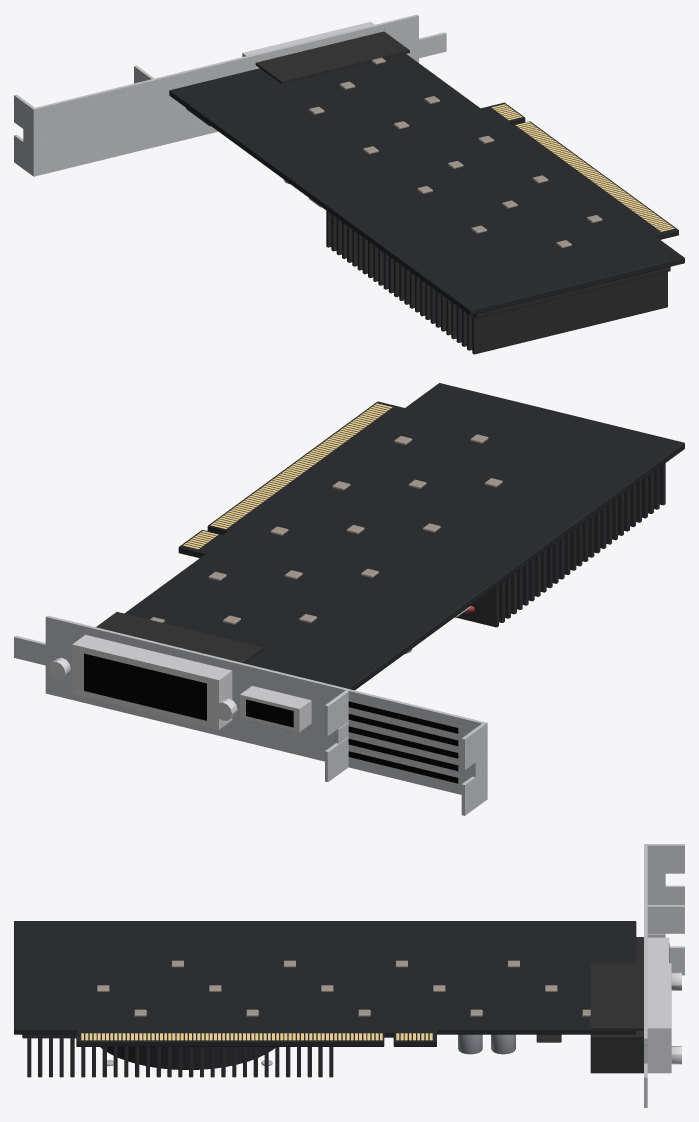
Rendered from GPU_GT1030class.glb.
The picture shows the model from 3 angles, top to bottom: view 1: azimuth 30°, elevation 25°; view 2: azimuth 150°, elevation 25°; view 3: azimuth 270°, elevation 25°; orthographic projection. The views are drawn at different scales.
Visible parts, largest first — view 1: GPU_GT1030class_PCB, GPU_GT1030class_Bracket_FullHeight, GPU_GT1030class_Heatsink, GPU_GT1030class_Outputs, GPU_GT1030class_Bracket_LowProfile, GPU_GT1030class_Contacts, GPU_GT1030class_Components; view 2: GPU_GT1030class_PCB, GPU_GT1030class_Bracket_FullHeight, GPU_GT1030class_Outputs, GPU_GT1030class_Heatsink, GPU_GT1030class_Bracket_LowProfile, GPU_GT1030class_Contacts, GPU_GT1030class_Components; view 3: GPU_GT1030class_PCB, GPU_GT1030class_Outputs, GPU_GT1030class_Heatsink, GPU_GT1030class_Bracket_FullHeight, GPU_GT1030class_Components, GPU_GT1030class_Contacts, GPU_GT1030class_Bracket_LowProfile.
Part boxes in pixels (x1,y1,x2,y2): GPU_GT1030class_PCB: [169, 54, 684, 315]; GPU_GT1030class_Bracket_FullHeight: [14, 14, 446, 176]; GPU_GT1030class_Heatsink: [326, 211, 670, 354]; GPU_GT1030class_Outputs: [186, 21, 409, 126]; GPU_GT1030class_Bracket_LowProfile: [134, 17, 445, 146]; GPU_GT1030class_Contacts: [491, 104, 674, 231]; GPU_GT1030class_Components: [283, 57, 602, 248]; GPU_GT1030class_PCB: [124, 383, 684, 690]; GPU_GT1030class_Bracket_FullHeight: [14, 615, 487, 815]; GPU_GT1030class_Outputs: [48, 612, 311, 732]; GPU_GT1030class_Heatsink: [455, 463, 665, 627]; GPU_GT1030class_Bracket_LowProfile: [14, 616, 348, 781]; GPU_GT1030class_Contacts: [183, 403, 392, 549]; GPU_GT1030class_Components: [150, 434, 502, 653]; GPU_GT1030class_PCB: [14, 921, 636, 1046]; GPU_GT1030class_Outputs: [590, 937, 681, 1073]; GPU_GT1030class_Heatsink: [22, 1034, 333, 1077]; GPU_GT1030class_Bracket_FullHeight: [644, 844, 684, 1107]; GPU_GT1030class_Components: [97, 960, 590, 1054]; GPU_GT1030class_Contacts: [81, 1033, 432, 1040]; GPU_GT1030class_Bracket_LowProfile: [644, 905, 684, 1103].
Bounding box in the file's own units: 0.1189 × 0.0185 × 0.1618.
